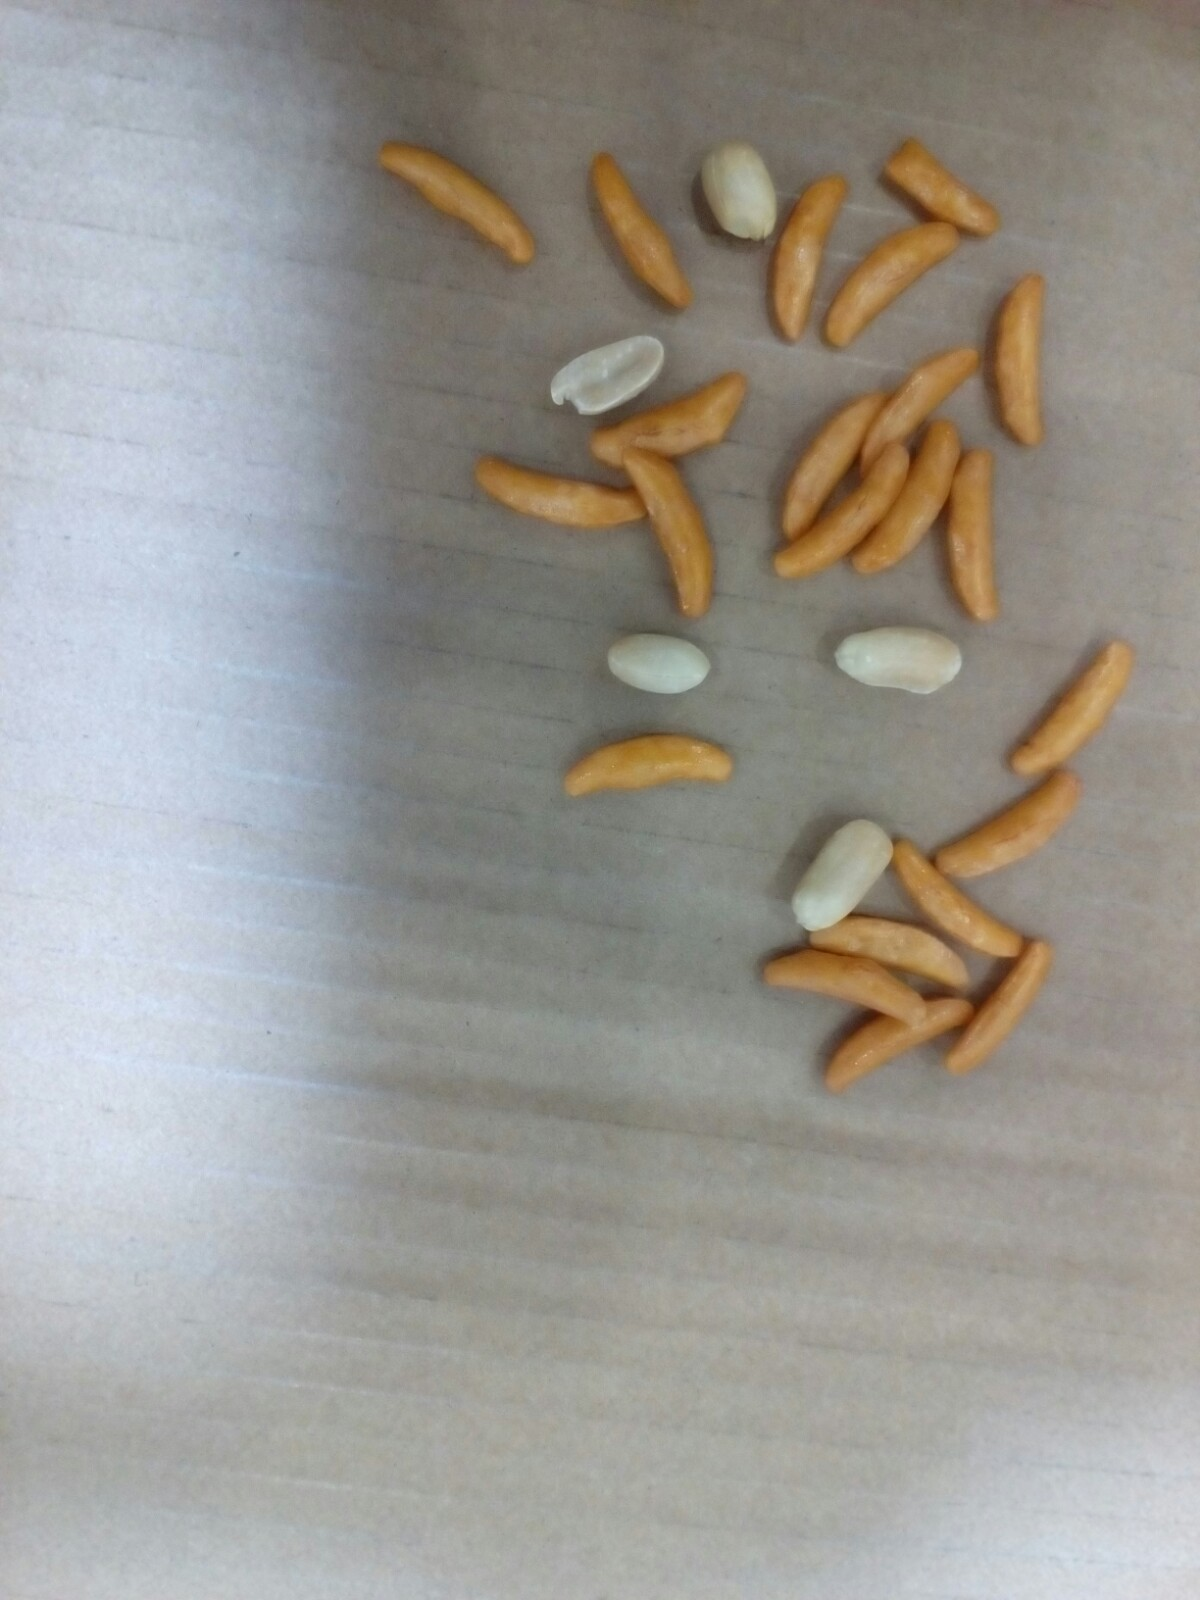peanut: (784, 806, 896, 936), (824, 621, 976, 702), (543, 328, 669, 420), (695, 129, 787, 249), (596, 627, 718, 702)
